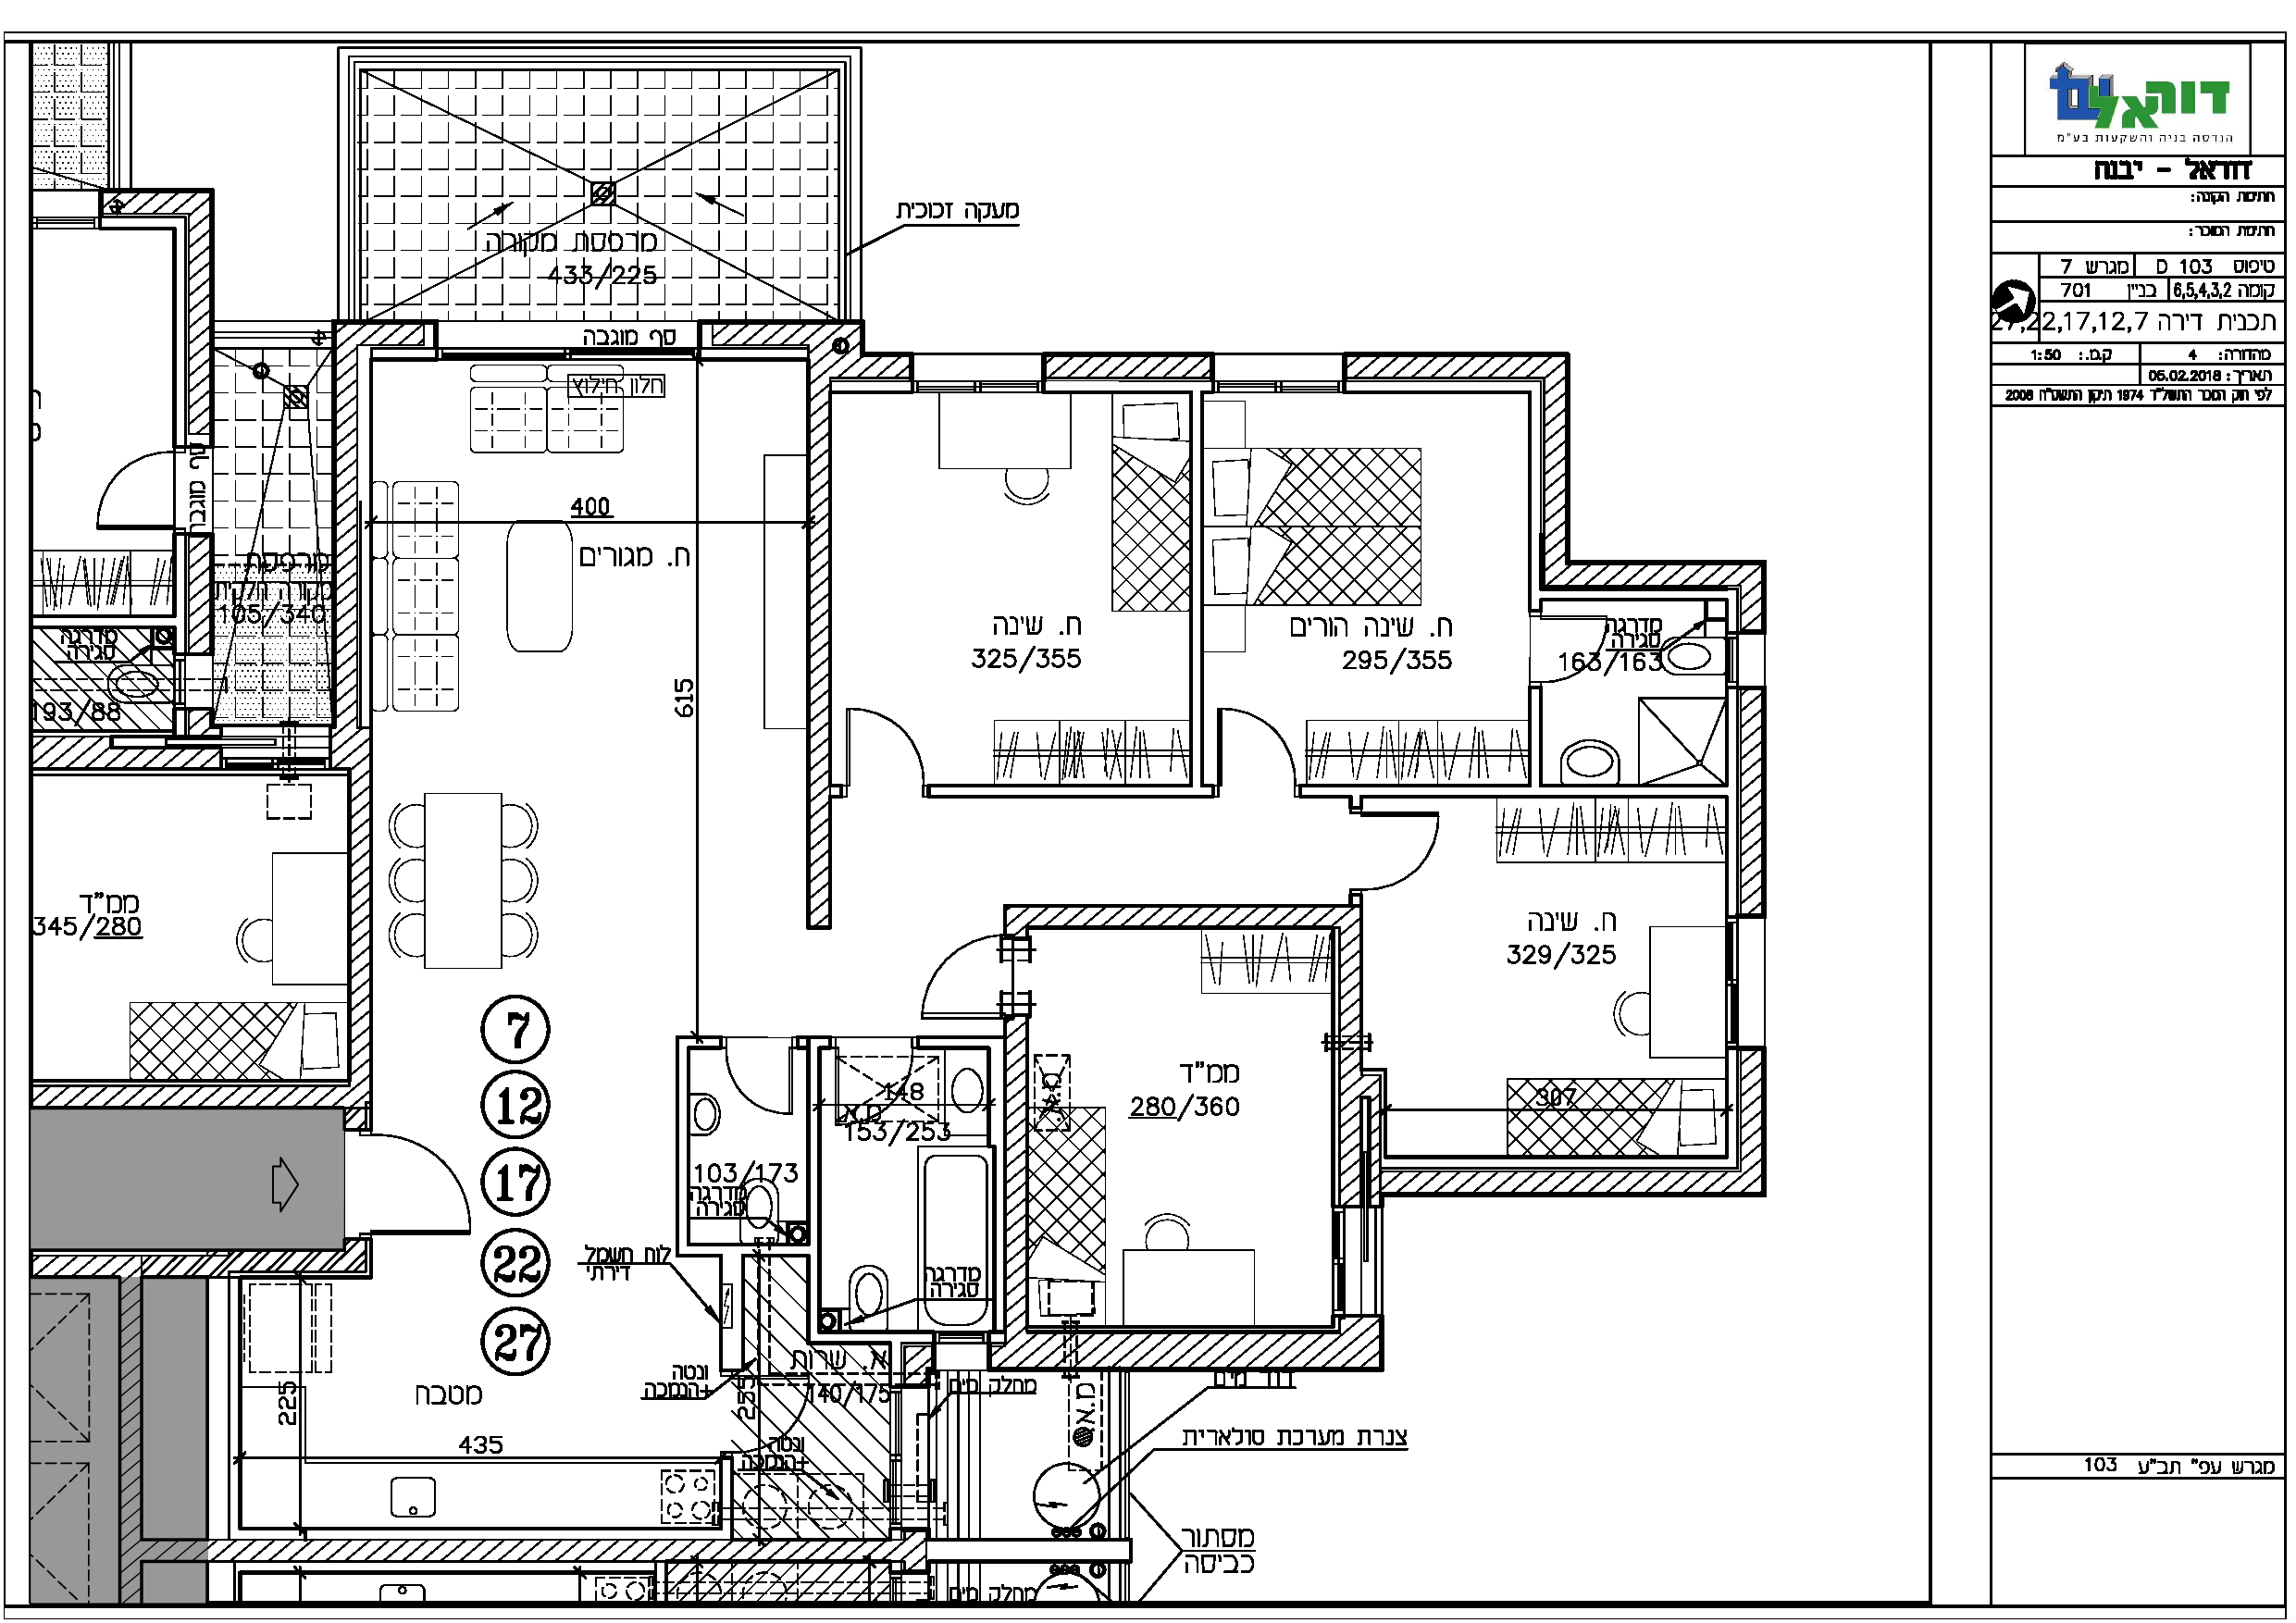wall: (805, 355, 833, 929), (1374, 1168, 1753, 1198), (1542, 351, 1569, 587)
